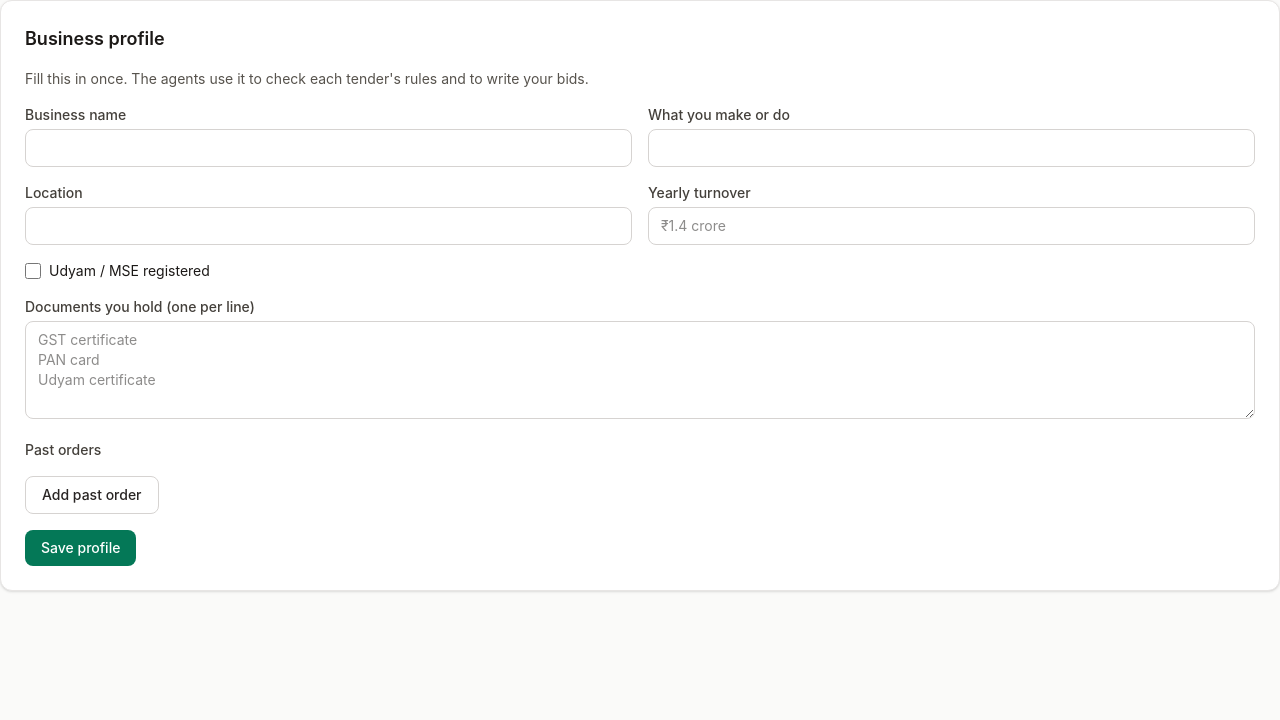
Test: shows the server's error
Step 1. Click the button "Save profile" → [81, 548], box [25,530,136,566]
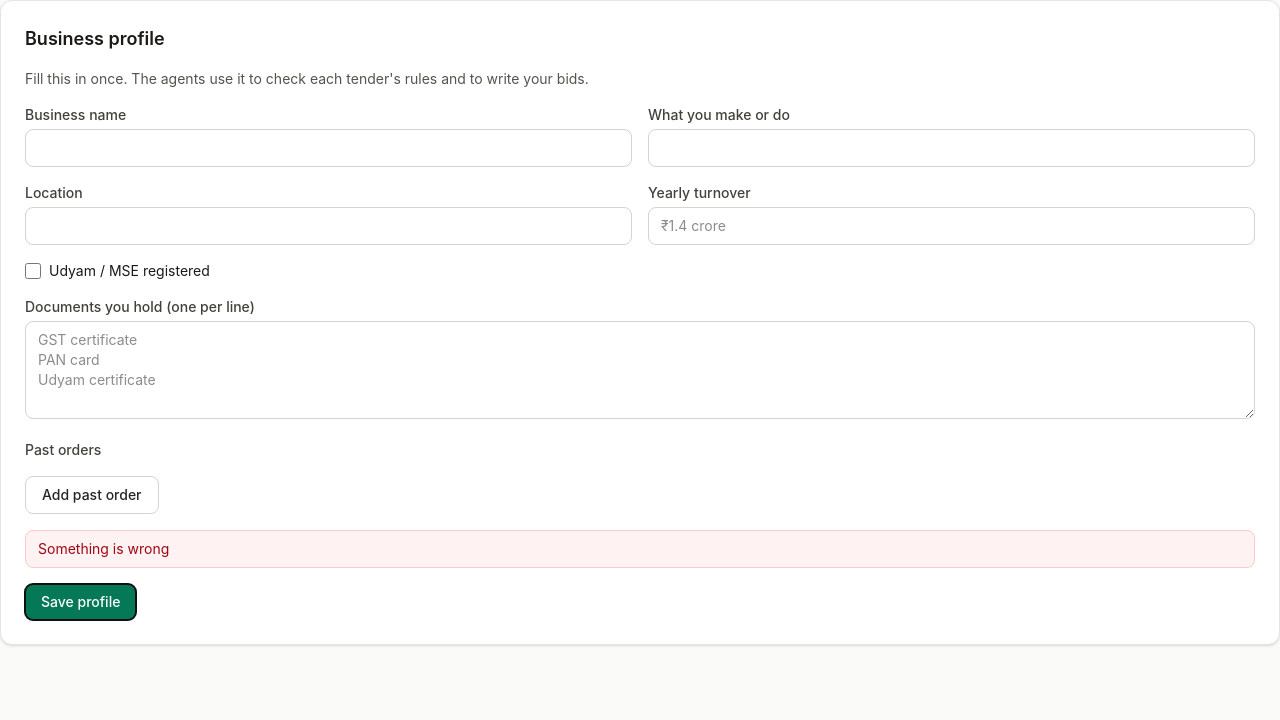
Expected: the message reads "Something is wrong", [38,540,169,557]
